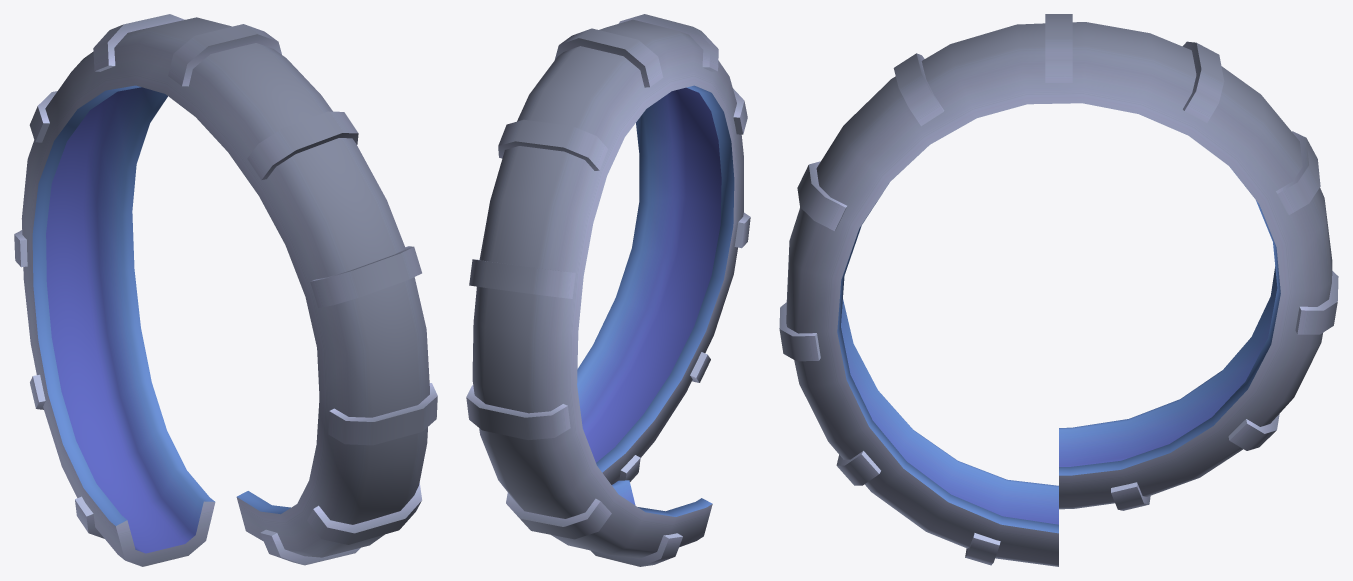
Rendered from kenney-coaster-coaster-flume-looping.glb.
3 views of the same model, side by side, from view 1: azimuth 30°, elevation 25°; view 2: azimuth 150°, elevation 25°; view 3: azimuth 270°, elevation 25° (orthographic). The views are drawn at different scales.
Visible parts, largest first — view 1: coaster-flume-looping; view 2: coaster-flume-looping; view 3: coaster-flume-looping.
Boxes of the visible parts, x1,y1,x2,y2 form: coaster-flume-looping: (14, 14, 437, 566); coaster-flume-looping: (466, 14, 750, 566); coaster-flume-looping: (779, 14, 1338, 566).
Bounding box in the file's own units: 1.83 × 4.05 × 4.09.
Materials: 1 (1 with a texture image).
